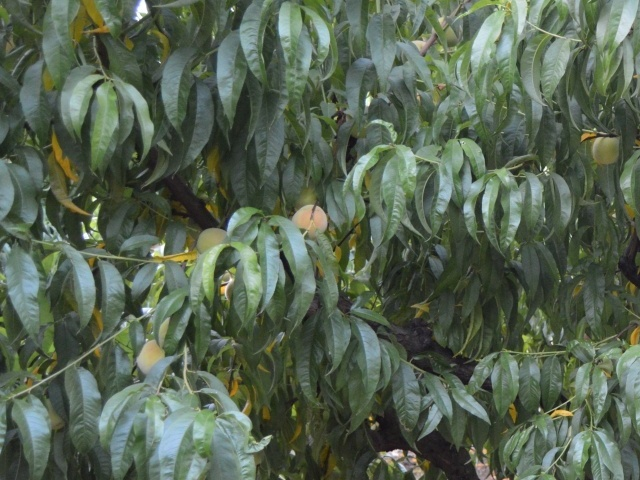peach: (288, 202, 333, 241), (134, 337, 168, 376), (589, 130, 622, 169), (192, 224, 231, 256)
